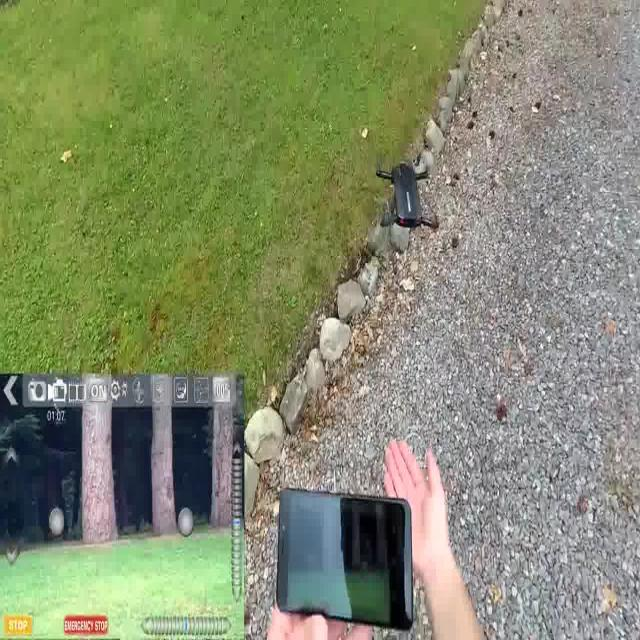Drone_FW: (370, 160, 444, 244)
